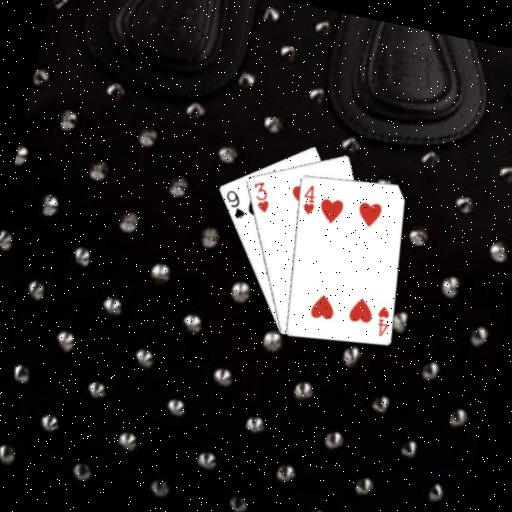3H: (245, 176, 275, 214)
4H: (370, 302, 394, 339), (297, 180, 320, 217)
9S: (218, 186, 250, 221)
